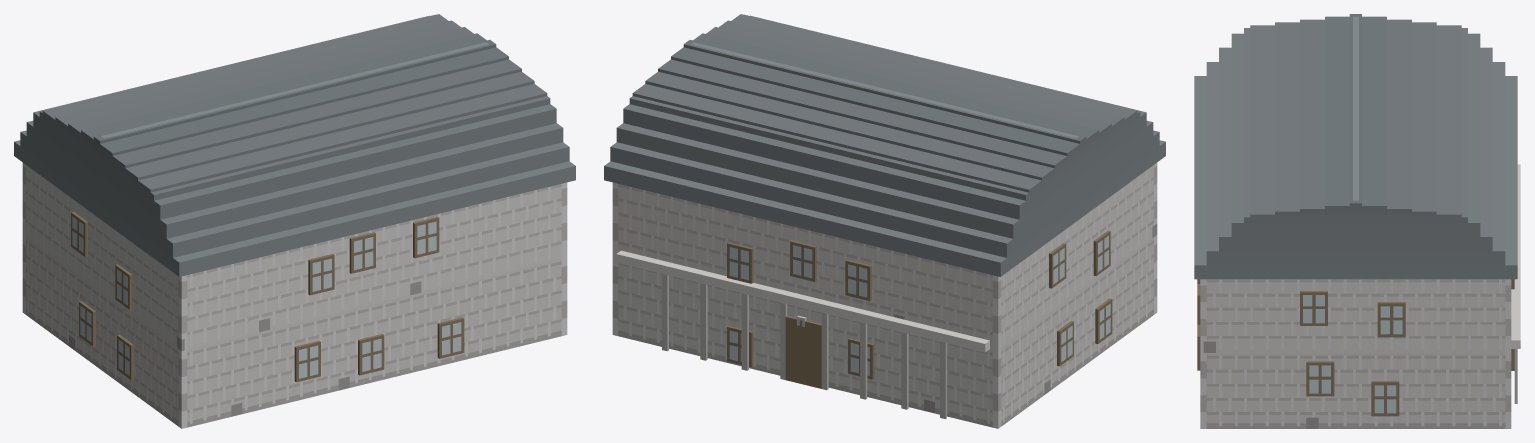
Rendered from ayuntamiento_04.glb.
3 renders of one model, left to right at view 1: azimuth 30°, elevation 25°; view 2: azimuth 150°, elevation 25°; view 3: azimuth 270°, elevation 25°, orthographic. The views are drawn at different scales.
Visible parts, largest first — view 1: ayuntamiento_04; view 2: ayuntamiento_04; view 3: ayuntamiento_04.
Part boxes in pixels (box(x1,y1,x2,y2)): ayuntamiento_04: box(14, 14, 575, 428); ayuntamiento_04: box(604, 14, 1165, 428); ayuntamiento_04: box(1194, 14, 1520, 428).
Bounding box in the file's own units: 14.4 × 8.1 × 10.5.
